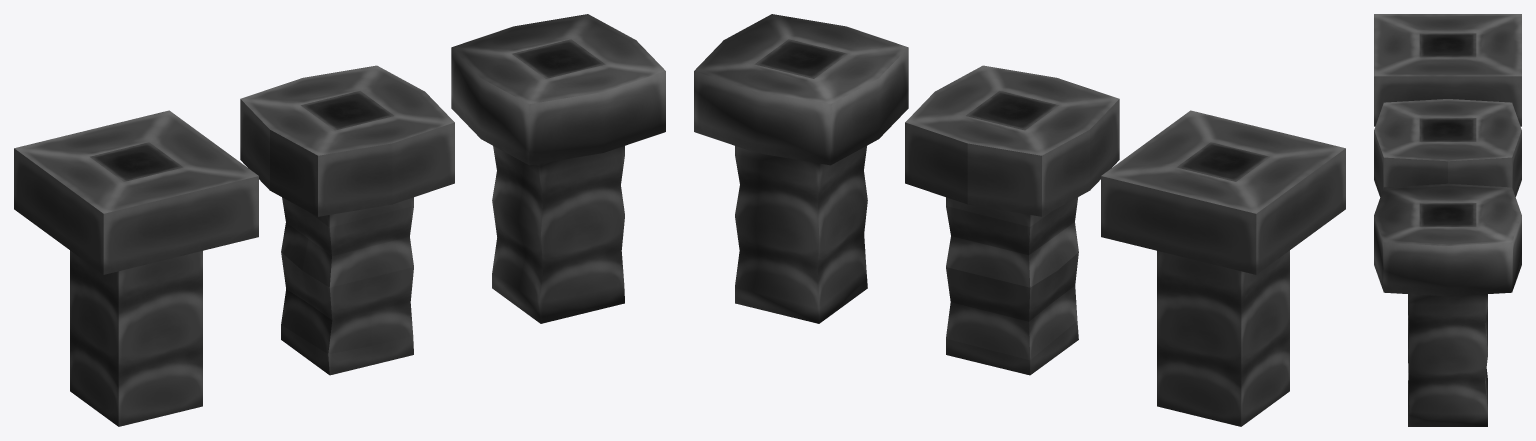
The model's file is Chimney.fbx.
3 views of the same model, side by side, from view 1: azimuth 30°, elevation 25°; view 2: azimuth 150°, elevation 25°; view 3: azimuth 270°, elevation 25° (orthographic). The views are drawn at different scales.
Parts seen in each view (by area): view 1: Cube_043, Cube_045, Cube_044; view 2: Cube_043, Cube_045, Cube_044; view 3: Cube_045, Cube_043, Cube_044.
Boxes of the visible parts, x1,y1,x2,y2 form: Cube_043: [14, 110, 258, 426]; Cube_045: [451, 14, 665, 323]; Cube_044: [240, 65, 454, 375]; Cube_043: [1101, 110, 1345, 426]; Cube_045: [694, 14, 908, 323]; Cube_044: [905, 65, 1119, 375]; Cube_045: [1374, 183, 1521, 426]; Cube_043: [1374, 14, 1521, 126]; Cube_044: [1374, 99, 1521, 317].
Size of the model in its own units: 19.15 by 7.5 by 5.15.
